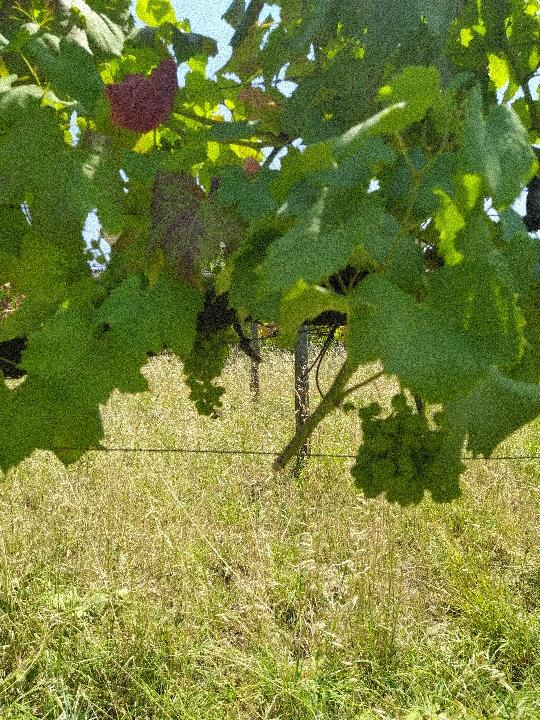grape: (347, 394, 468, 510), (179, 326, 238, 428)
